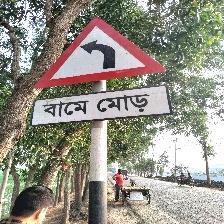Left-Turn: (29, 14, 172, 127)
